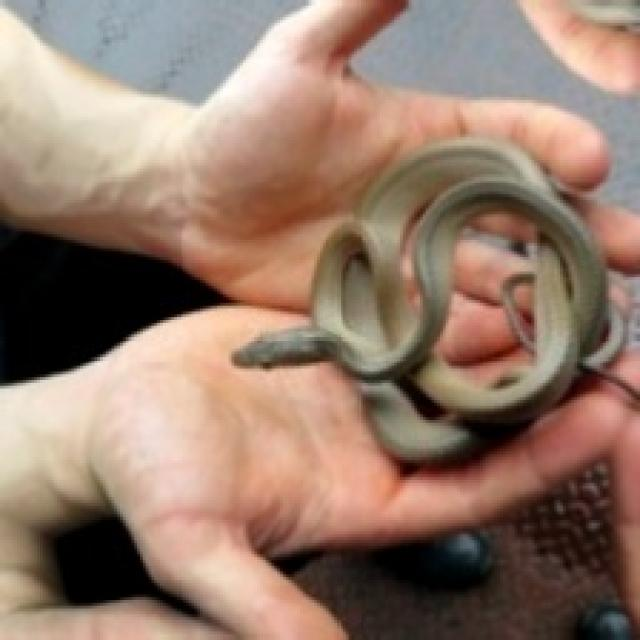red-tailed green ratsnake: (231, 137, 637, 469)
